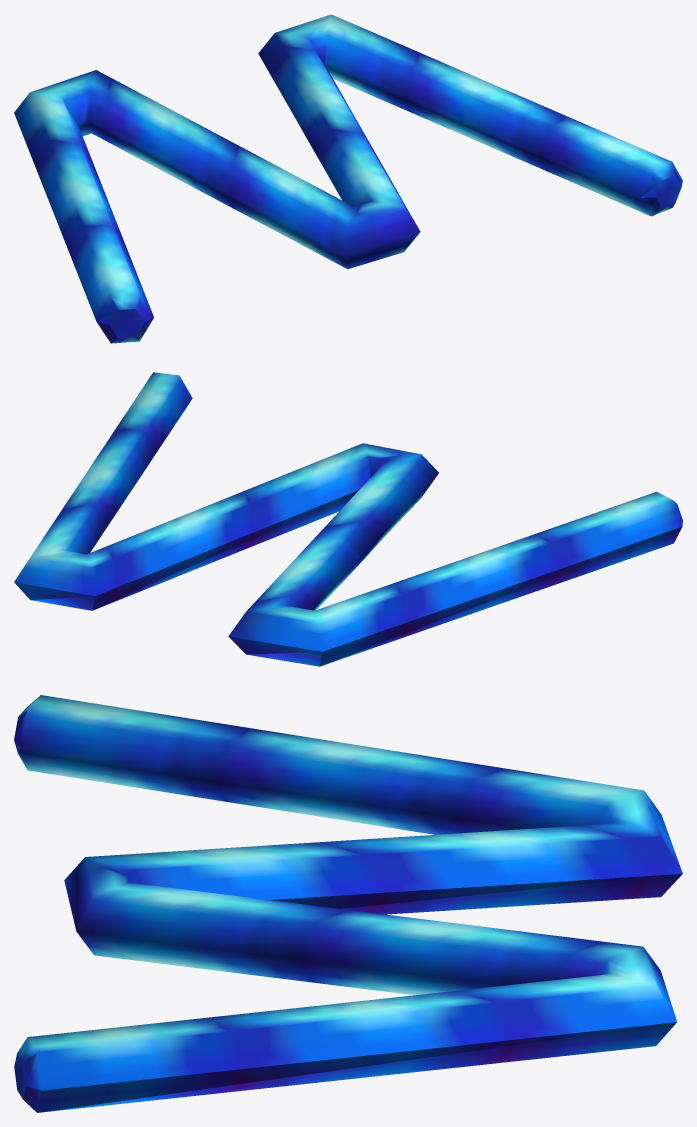
File: furni_0200470.FBX
3 renders of one model, top to bottom at view 1: azimuth 30°, elevation 25°; view 2: azimuth 150°, elevation 25°; view 3: azimuth 270°, elevation 25°, orthographic. The views are drawn at different scales.
Parts seen in each view (by area): view 1: furni_0200470; view 2: furni_0200470; view 3: furni_0200470.
Part boxes in pixels (<box>): furni_0200470: <box>14,14,682,343</box>; furni_0200470: <box>14,372,682,666</box>; furni_0200470: <box>14,695,682,1112</box>.
Bounding box in the file's own units: 67.94 × 5.11 × 51.46.
1 material, 1 textured.
